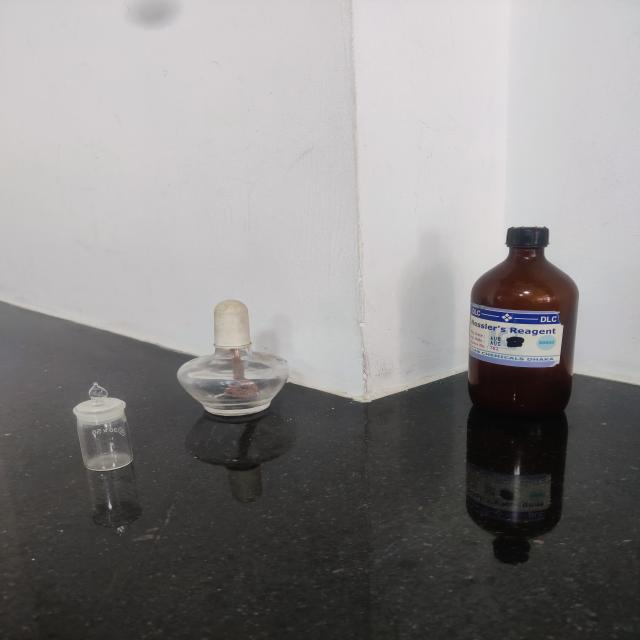Nessler_Reagent_Bottle: (446, 225, 614, 440)
Spirit_Lamp: (151, 297, 304, 433)
Weighing_Bottle: (54, 374, 138, 479)
